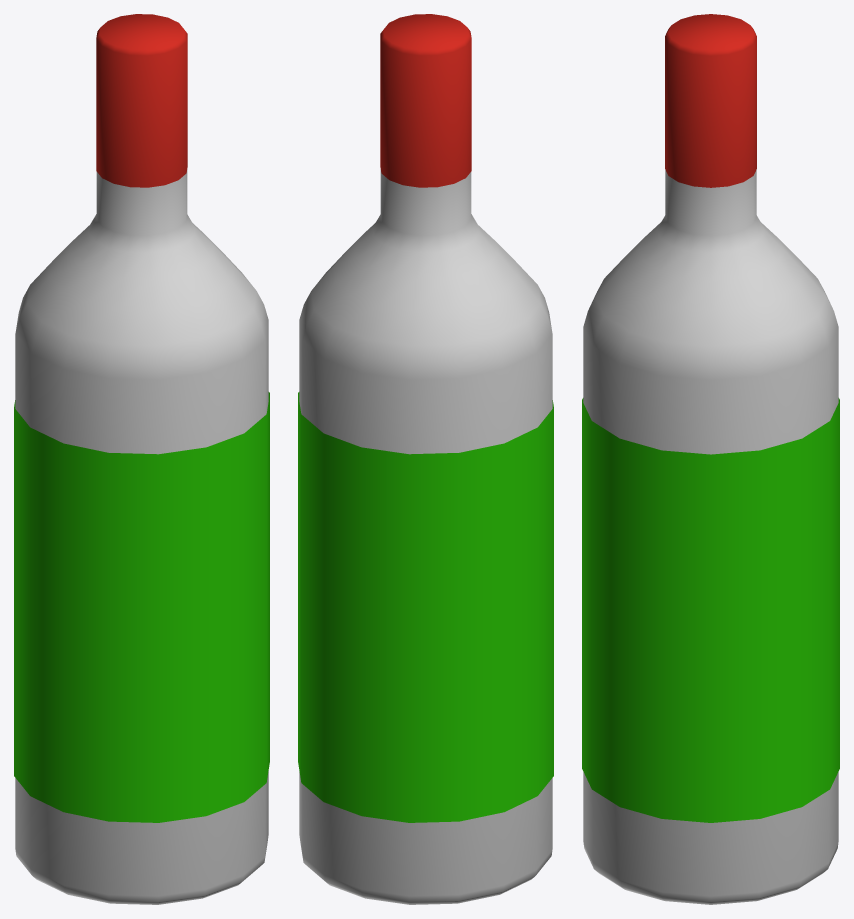
File: BHP_MOD_E_BOT_Rum.fbx
The picture shows the model from 3 angles, left to right: view 1: azimuth 30°, elevation 25°; view 2: azimuth 150°, elevation 25°; view 3: azimuth 270°, elevation 25°; orthographic projection.
Visible parts, largest first — view 1: BHP_MOD_E_BOT_Rum; view 2: BHP_MOD_E_BOT_Rum; view 3: BHP_MOD_E_BOT_Rum.
Part boxes in pixels (bbox=[...]): BHP_MOD_E_BOT_Rum: bbox=[14, 14, 269, 904]; BHP_MOD_E_BOT_Rum: bbox=[298, 14, 553, 904]; BHP_MOD_E_BOT_Rum: bbox=[582, 14, 839, 904].
Size of the model in its own units: 0.096 by 0.3374 by 0.096.
